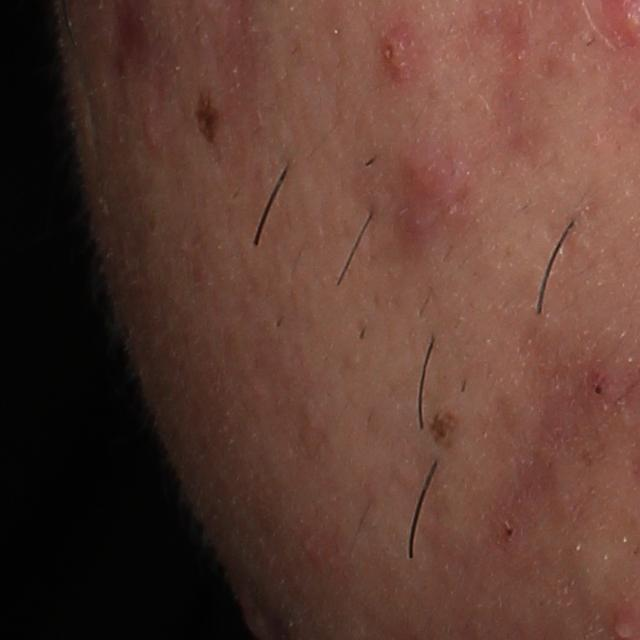comedo: (589, 378, 608, 400)
nevus: (418, 404, 462, 449), (193, 94, 222, 144)
papule: (400, 145, 456, 206), (380, 26, 417, 81)
